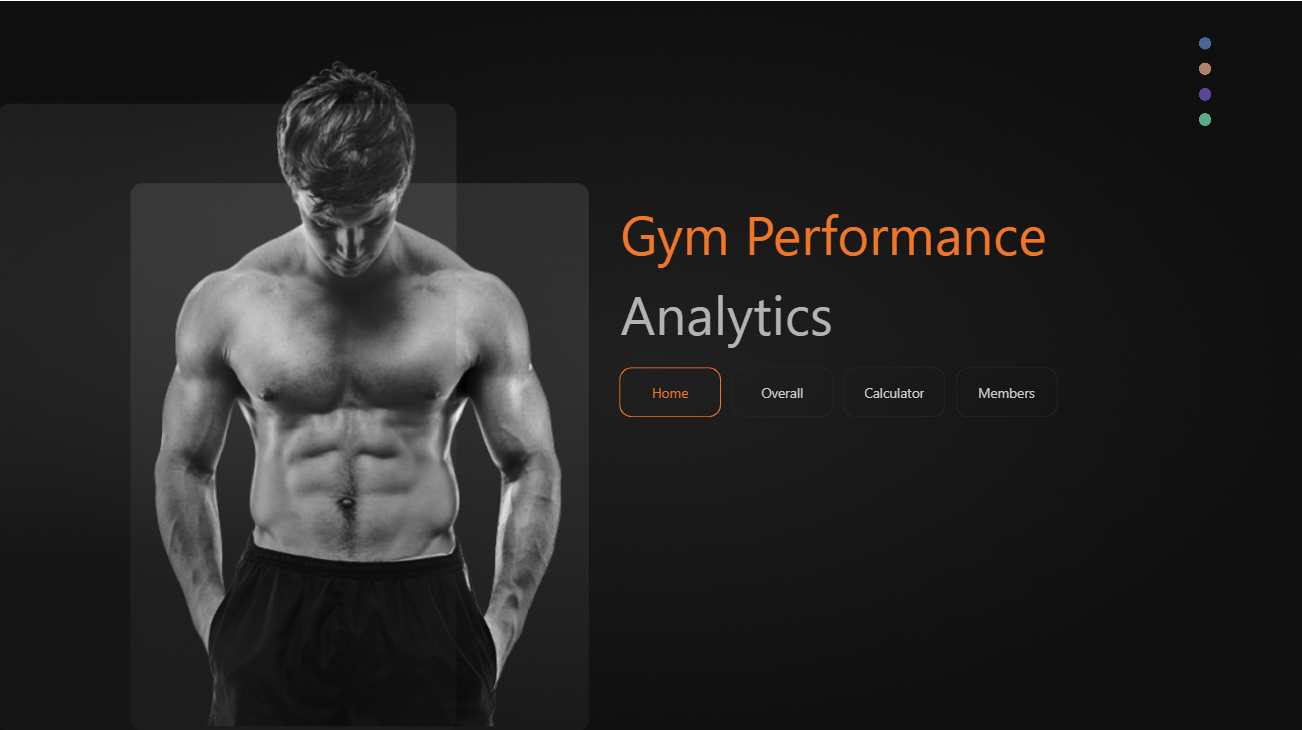

Layout of this report page (visuals, bound fields, positions):
{"tool":"powerbi","page":{"name":"Home","canvas":[1280,720],"ordinal":0},"visuals":[{"type":"shape","box":[611,187.7,430.7,78.5],"z":0},{"type":"shape","box":[611,266.3,539.9,78.5],"z":1000},{"type":"pageNavigator","box":[609.3,359.5,432.2,49.4],"z":2000},{"type":"advancedSlicerVisual","fields":{"Values":["ColorCodes.Icon"]},"box":[1169.1,28.8,31.6,102.9],"z":3000}]}

Visuals, with their boxes in screenshot pixels (x1, y1, x2, y2), scaled from the page's 1280x720 canvas onto the 1302x730 screenshot:
shape: <box>622,190,1060,270</box>
shape: <box>622,270,1171,350</box>
pageNavigator: <box>620,364,1059,415</box>
advancedSlicerVisual - ColorCodes.Icon: <box>1189,29,1221,134</box>
